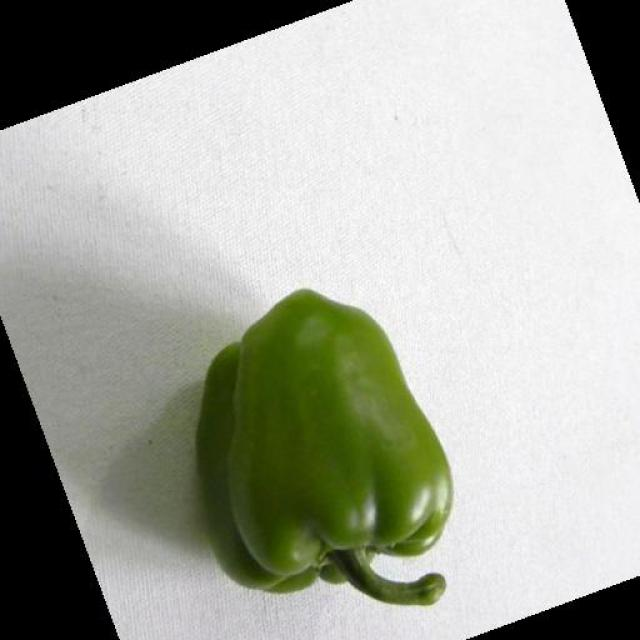Fresh_Capsicum: (210, 290, 462, 588)
